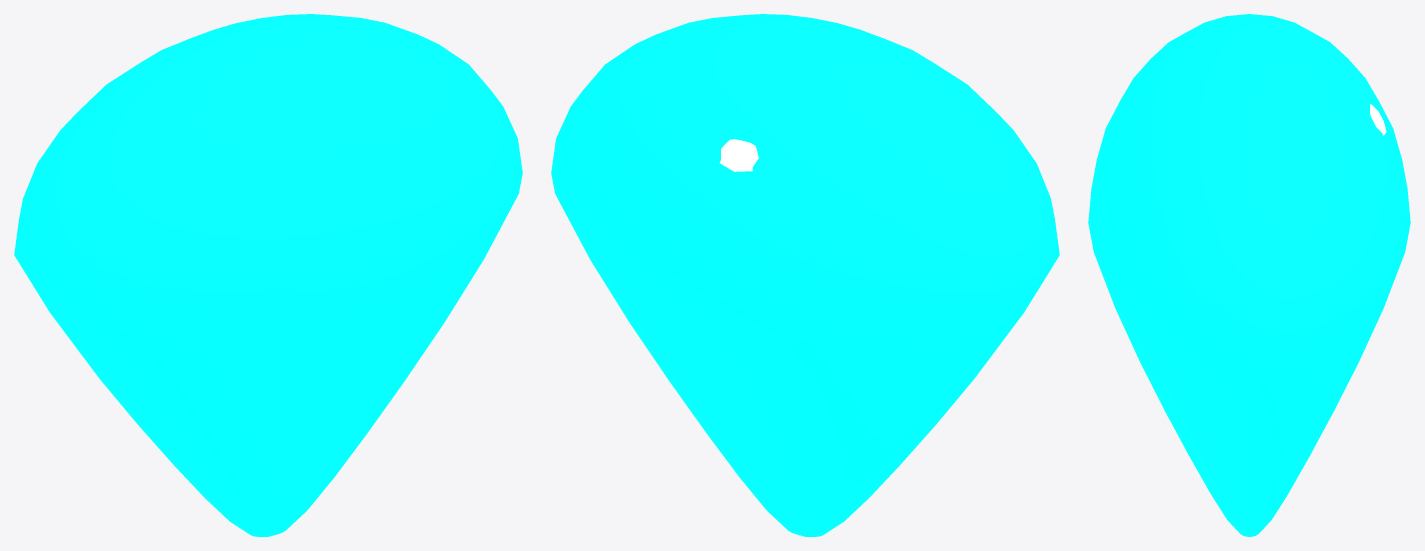
File: creature_3d.glb
3 views of the same model, side by side, from view 1: azimuth 30°, elevation 25°; view 2: azimuth 150°, elevation 25°; view 3: azimuth 270°, elevation 25° (orthographic). The views are drawn at different scales.
Visible parts, largest first — view 1: creature_3d; view 2: creature_3d; view 3: creature_3d.
Boxes of the visible parts, x1,y1,x2,y2 form: creature_3d: (14,14,522,536); creature_3d: (551,14,1059,536); creature_3d: (1088,14,1410,536).
Size of the model in its own units: 1.75 by 1.75 by 1.05.
